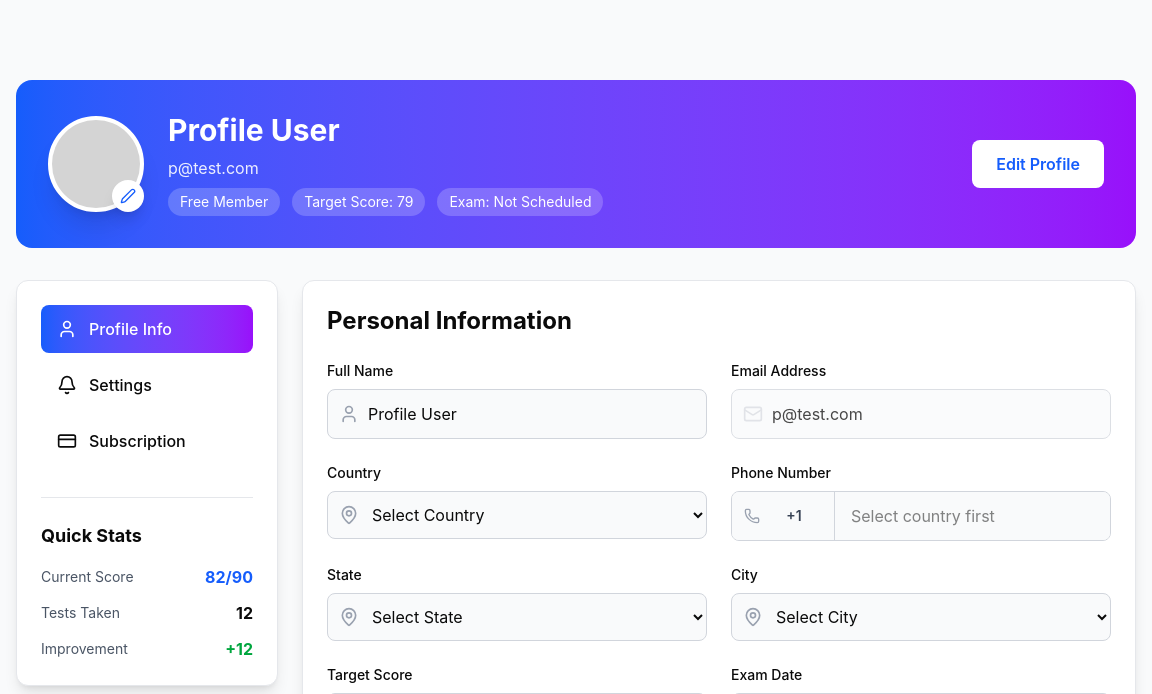
Test: ProfilePage › renders subscription pricing options and payment history
The image size is (1152, 694).
Click the button "Subscription": (147, 441) left=41, top=417, right=253, bottom=465
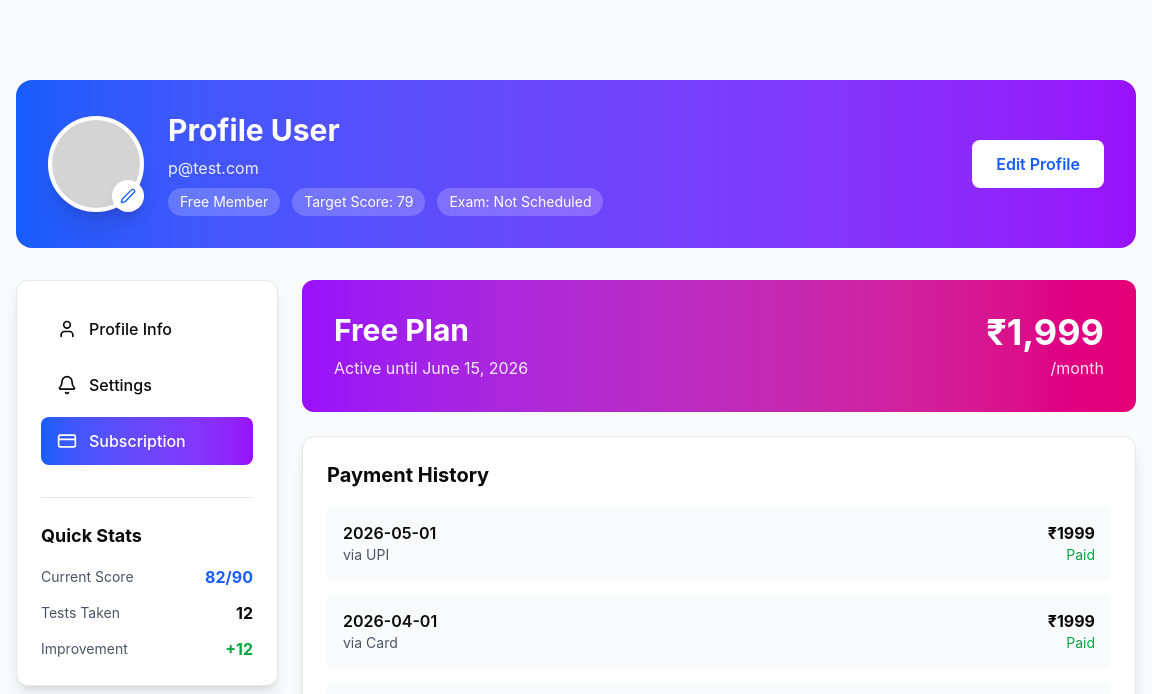
Now the heading "Payment History" is shown, box left=327, top=463, right=489, bottom=487
Now the text "₹1,999" is shown, box left=986, top=312, right=1104, bottom=352
